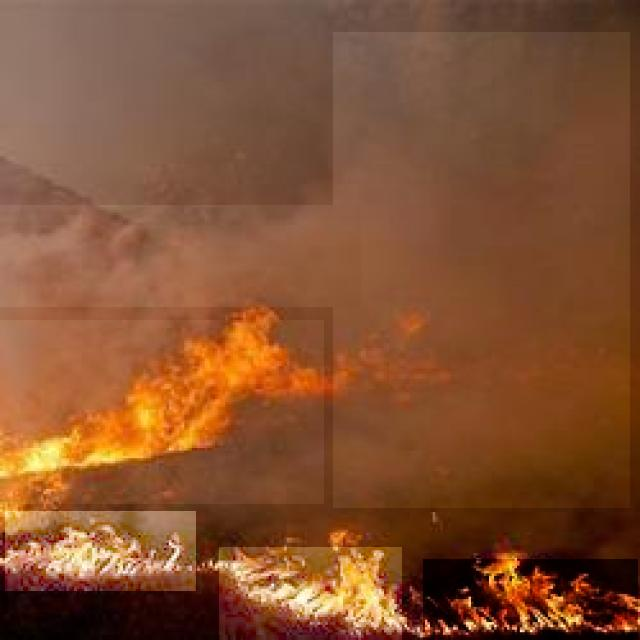Fire: (0, 320, 324, 504), (423, 559, 638, 640), (219, 547, 402, 640), (5, 511, 196, 591)
Smoke: (333, 32, 630, 508), (0, 205, 361, 307)
